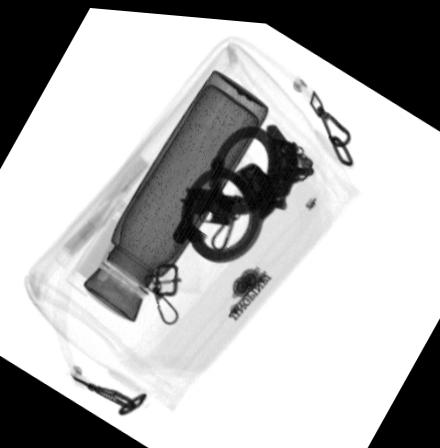Gun: (171, 183, 288, 239)
HandCuffs: (180, 117, 317, 262)
